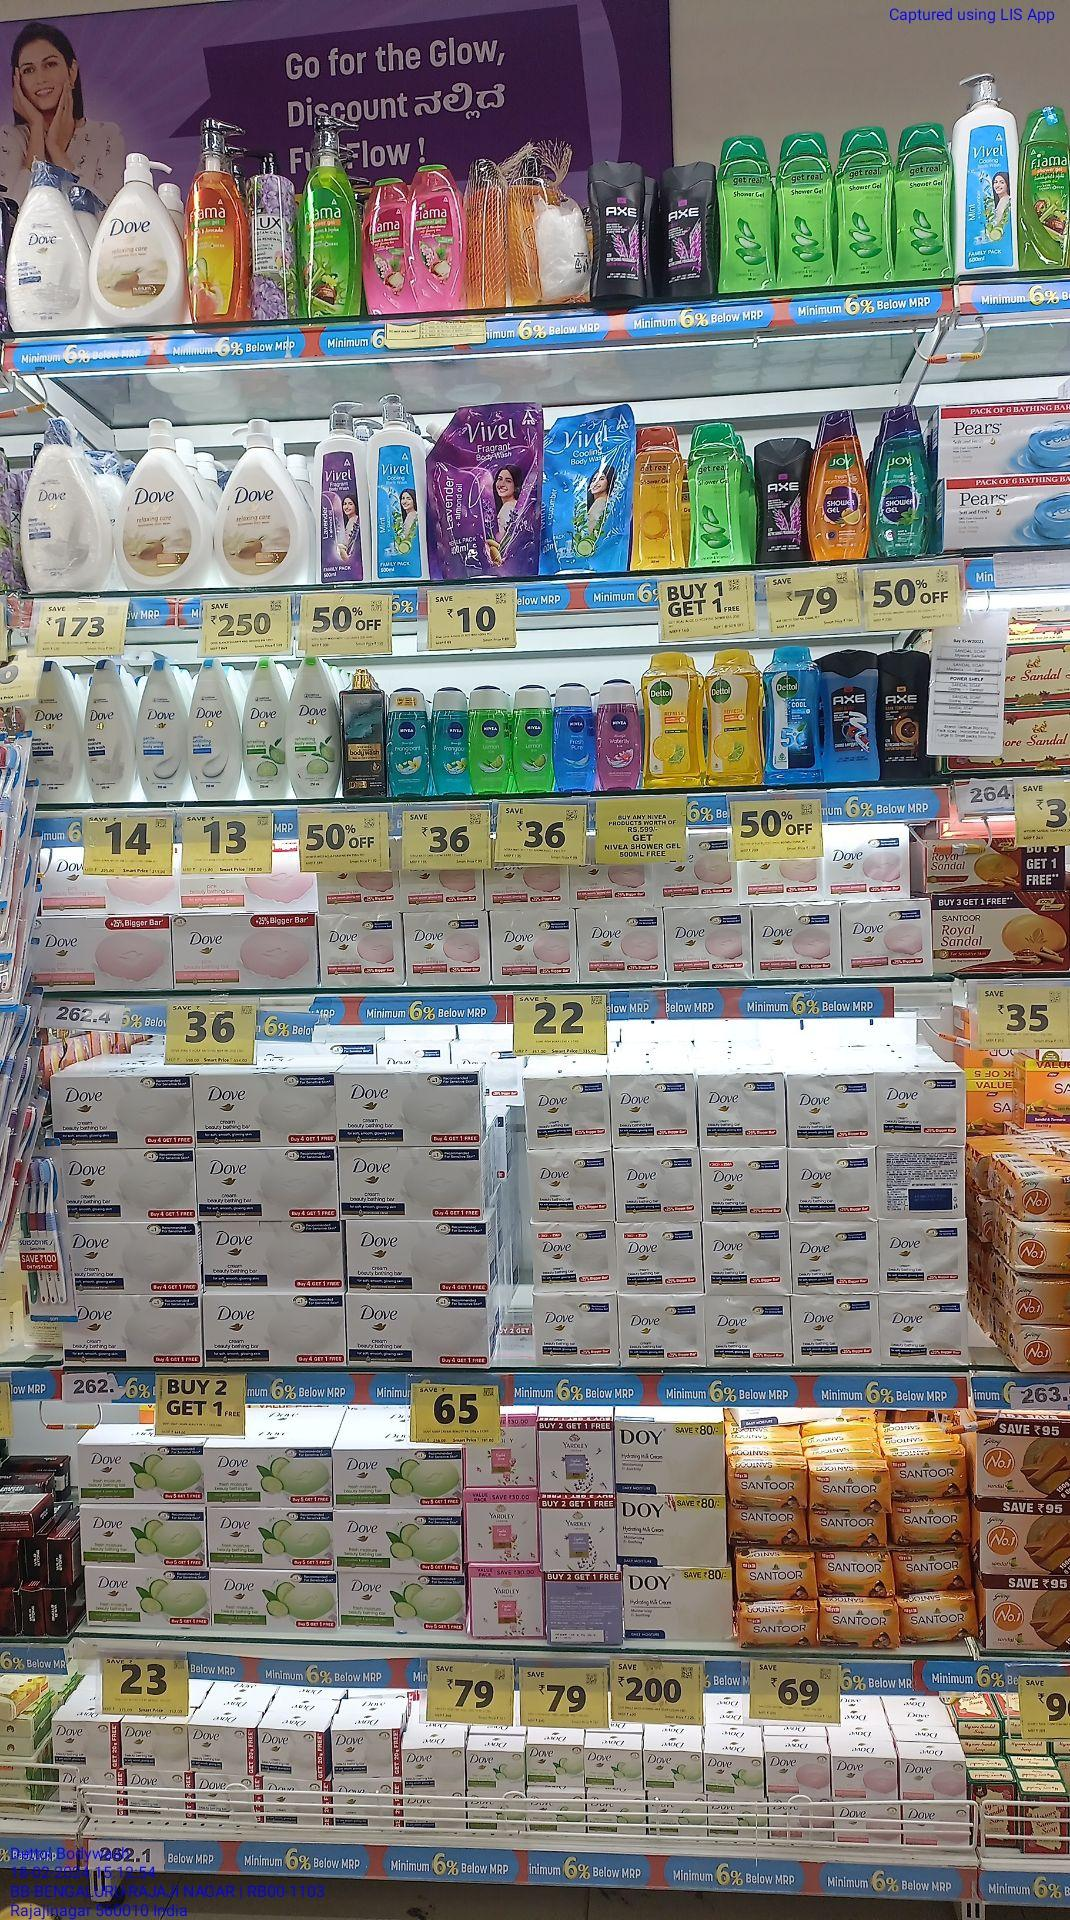Dettol_Bodywash_Cool: (766, 650, 821, 784)
Dettol_Bodywash_Refresh: (643, 654, 701, 788), (706, 650, 763, 785)
Dove_Deep_Moisture_Body_Wash_250ML: (34, 659, 84, 804), (86, 658, 134, 801)
Dove_Gentle_Exfoliating_Body_Wash_250ML: (137, 659, 188, 803), (191, 662, 242, 800)
Dove_Refreshing_Body_Wash_250ML: (293, 658, 343, 800), (245, 656, 290, 800)
Fiama_Shower_Gel_Patchouli_and_Macadamia_250ML: (412, 162, 466, 306), (361, 177, 410, 314)
Get_Real_Shower_Gel_Moisturising_Glycerin_300ML: (634, 426, 687, 569)
Joy_Shower_Gel_Mandarin_and_Lemongrass_250ML: (809, 410, 870, 559)
Joy_Shower_Gel_Mint_and_Eucalyptus_250ML: (872, 406, 932, 559)
Nivea_Shower_Gel_Frangipani_and_Oil_250ML: (385, 689, 430, 796), (431, 685, 469, 795)
Nivea_Shower_Gel_Lemon_and_Oil_250ML: (511, 684, 553, 795), (469, 685, 510, 796)
Nivea_Shower_Gel_Waterlily_and_Oil_250ML: (597, 679, 639, 791)
